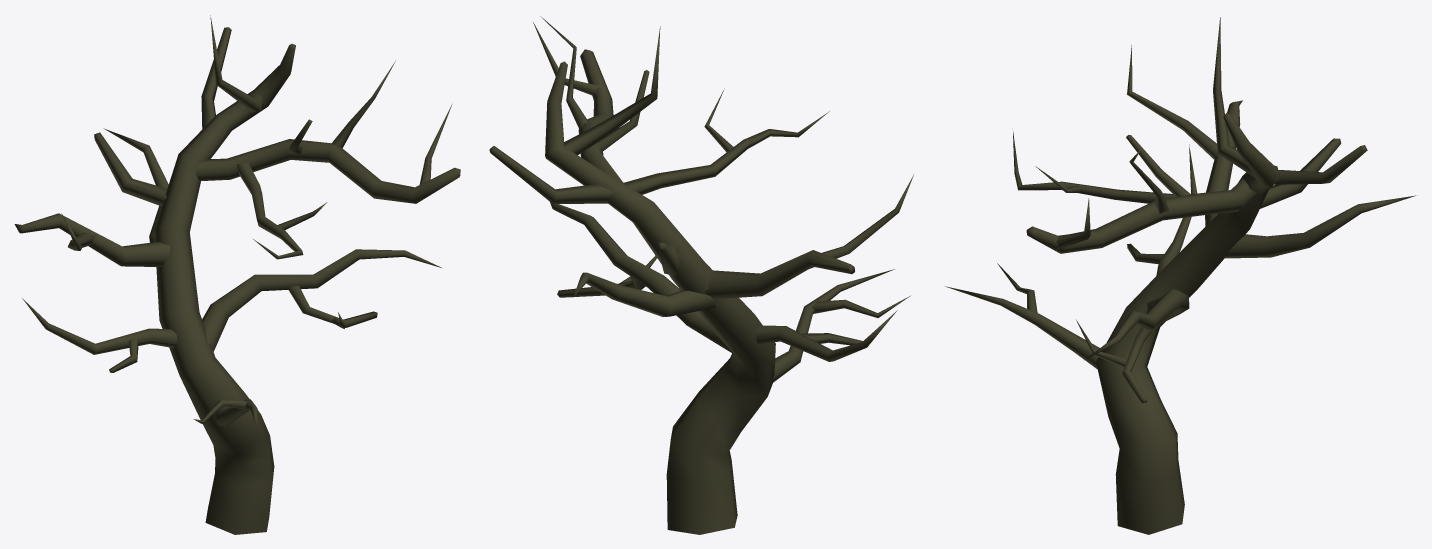
The model's file is SM_KnotwoodDead01.fbx.
3 views of the same model, side by side, from view 1: azimuth 30°, elevation 25°; view 2: azimuth 150°, elevation 25°; view 3: azimuth 270°, elevation 25° (orthographic). The views are drawn at different scales.
Parts seen in each view (by area): view 1: SM_KnotwoodDead01; view 2: SM_KnotwoodDead01; view 3: SM_KnotwoodDead01.
Boxes of the visible parts, x1,y1,x2,y2 form: SM_KnotwoodDead01: [14, 15, 460, 534]; SM_KnotwoodDead01: [489, 16, 913, 534]; SM_KnotwoodDead01: [945, 17, 1415, 534].
Size of the model in its own units: 1065 by 1283 by 1085.
